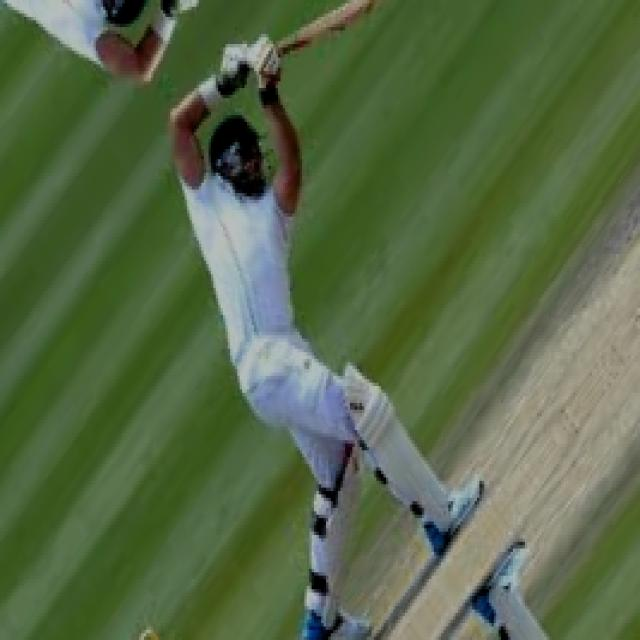toe: (340, 0, 380, 20)
